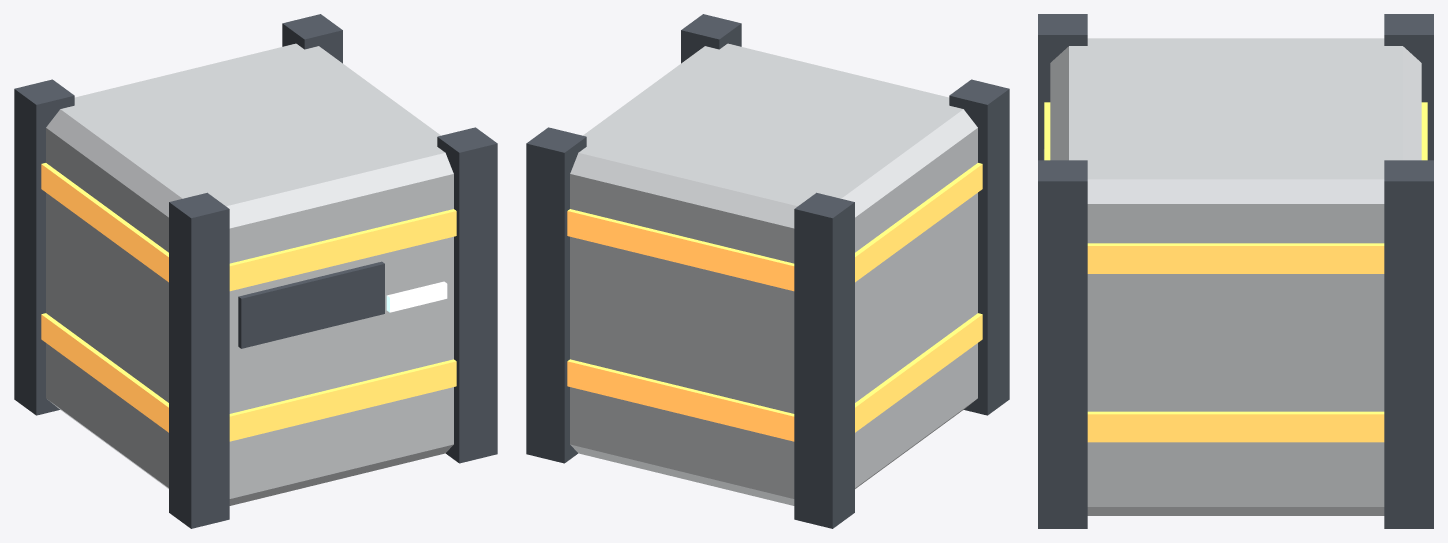
The model's file is spaceship-deck-kit-storage-crate-33cd4f18__12585.glb.
3 views of the same model, side by side, from view 1: azimuth 30°, elevation 25°; view 2: azimuth 150°, elevation 25°; view 3: azimuth 270°, elevation 25° (orthographic). The views are drawn at different scales.
Parts seen in each view (by area): view 1: storage-crate; view 2: storage-crate; view 3: storage-crate.
Part boxes in pixels (x1,y1,x2,y2): storage-crate: (14,14,497,528); storage-crate: (526,14,1009,528); storage-crate: (1038,14,1433,528).
Size of the model in its own units: 0.64 by 0.62 by 0.64.
